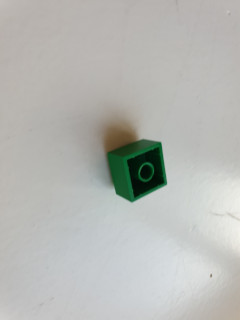2x2 green: (108, 137, 170, 203)
